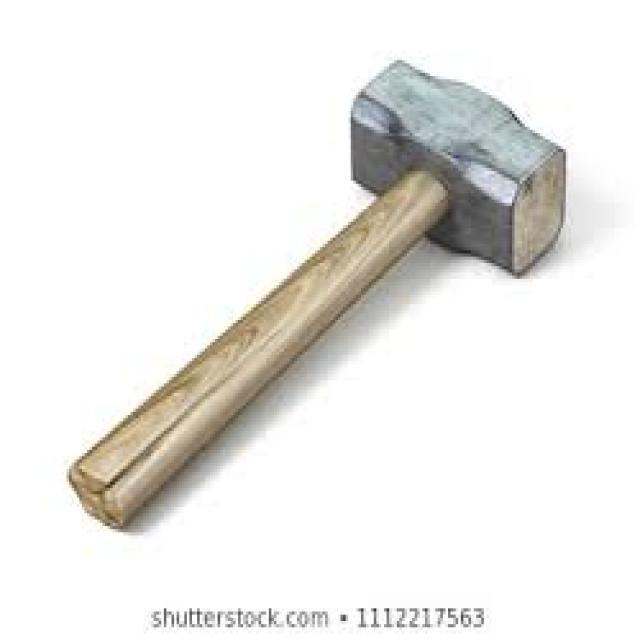hammer: (50, 48, 575, 533)
